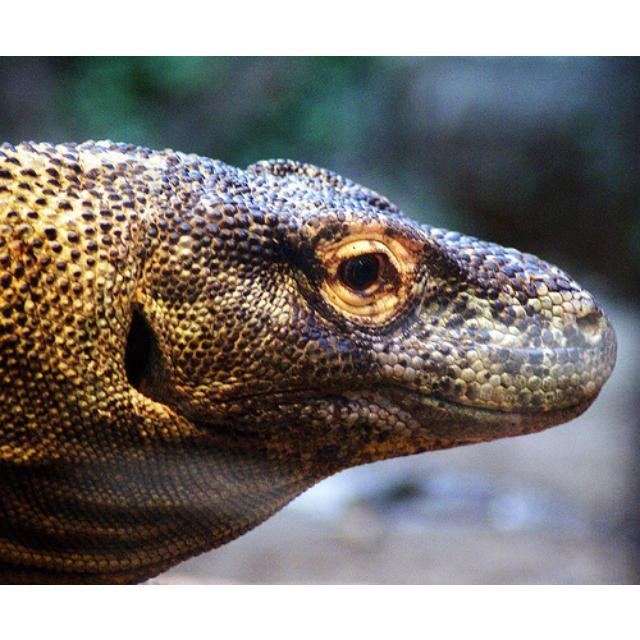KomodoDragon: (0, 135, 618, 581)
